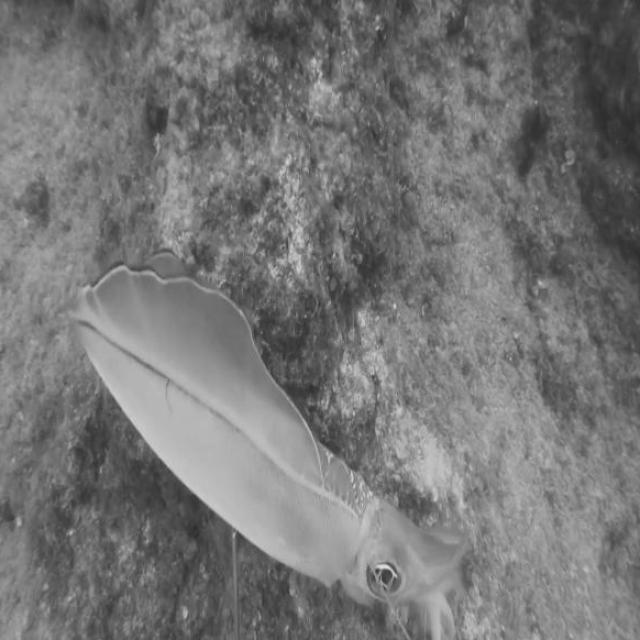SQUID: (48, 231, 486, 640)
